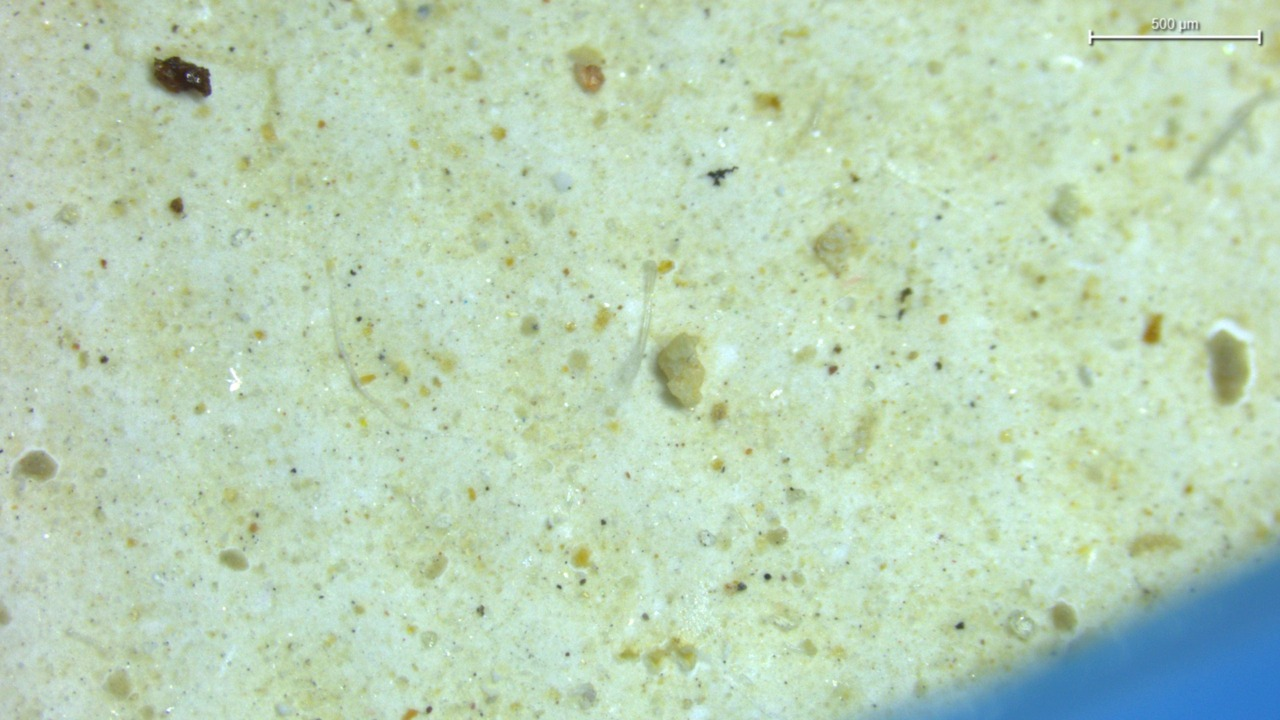microplastic_fragment: (657, 334, 705, 407)
